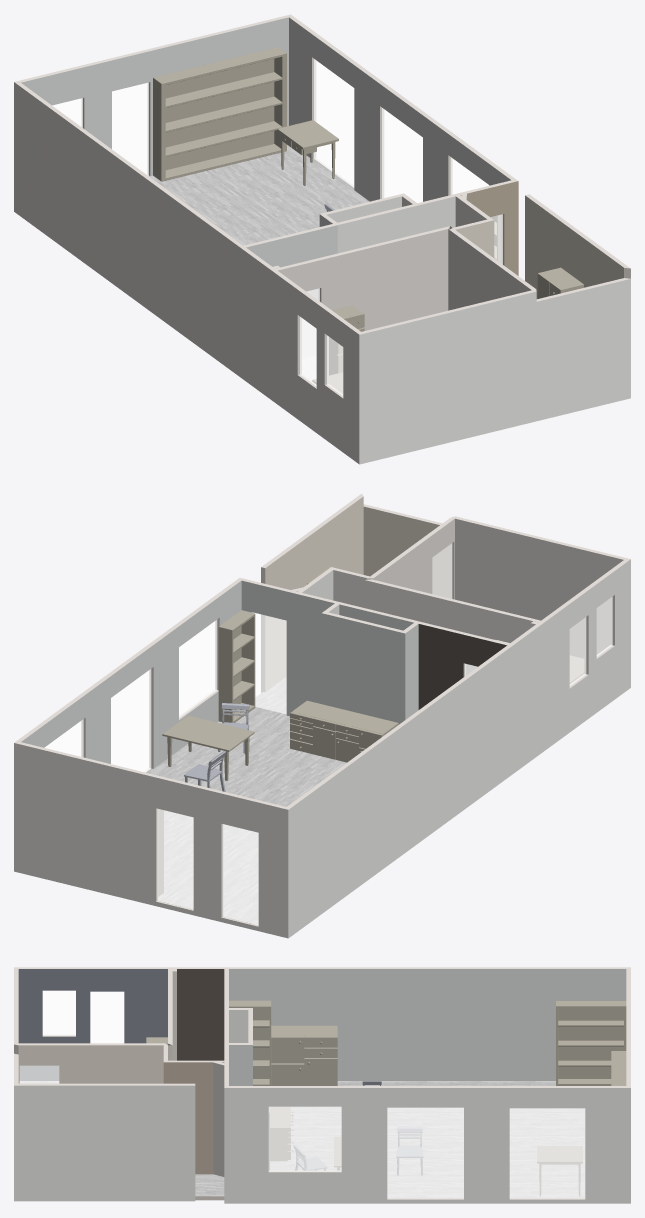
Rendered from Upstairs office and storage.glb.
3 views of the same model, one above another, from view 1: azimuth 30°, elevation 25°; view 2: azimuth 150°, elevation 25°; view 3: azimuth 270°, elevation 25° (orthographic). The views are drawn at different scales.
Visible parts, largest first — view 1: wall_17, wall_10, storage_shelf0, wall_7, floor_Dining_Room, wall_37, wall_41, wall_20, wall_31, wall_71, wall_16, door_5 (+25 smaller); view 2: wall_17, wall_3, floor_Dining_Room, wall_45, wall_37, wall_20, wall_35, wall_71, wall_8, storage_cabinet_mid40, wall_53, wall_16 (+36 smaller); view 3: wall_59, wall_6, wall_23, floor_Dining_Room, wall_65, door_1, door_9, door_5, door_13, storage_shelf3, wall_69, window_0 (+29 smaller).
Boxes of the visible parts, box(x1,y1,x2,y2) form: wall_17: box(14, 82, 240, 376); wall_10: box(359, 291, 536, 464); storage_shelf0: box(153, 47, 286, 181); wall_7: box(536, 279, 630, 420); floor_Dining_Room: box(148, 145, 369, 245); wall_37: box(289, 17, 510, 201); wall_41: box(278, 229, 448, 330); wall_20: box(272, 271, 359, 463); wall_31: box(21, 17, 288, 176); wall_71: box(525, 195, 623, 298); wall_16: box(240, 248, 269, 397); door_5: box(314, 59, 353, 187); wall_17: box(288, 646, 512, 938); wall_3: box(14, 743, 288, 938); floor_Dining_Room: box(146, 707, 346, 925); wall_45: box(455, 518, 623, 658); wall_37: box(21, 581, 241, 768); wall_20: box(544, 559, 630, 750); wall_35: box(321, 613, 405, 724); wall_71: box(265, 496, 363, 691); wall_8: box(365, 580, 532, 674); storage_cabinet_mid40: box(290, 700, 398, 762); wall_53: box(418, 624, 506, 709); wall_16: box(513, 625, 541, 773); wall_59: box(229, 969, 626, 1080); wall_6: box(224, 1088, 630, 1203); wall_23: box(14, 1085, 195, 1201); floor_Dining_Room: box(270, 1081, 584, 1198); wall_65: box(18, 969, 167, 1080); door_1: box(387, 1108, 463, 1198); door_9: box(387, 1108, 463, 1198); door_5: box(510, 1108, 584, 1198); door_13: box(510, 1108, 584, 1198); storage_shelf3: box(556, 1001, 626, 1085); wall_69: box(18, 1045, 163, 1083); window_0: box(269, 1107, 341, 1171).
Bounding box in the file's own units: 6.32 × 2.83 × 13.67.
Materials: 78 (5 with a texture image).
